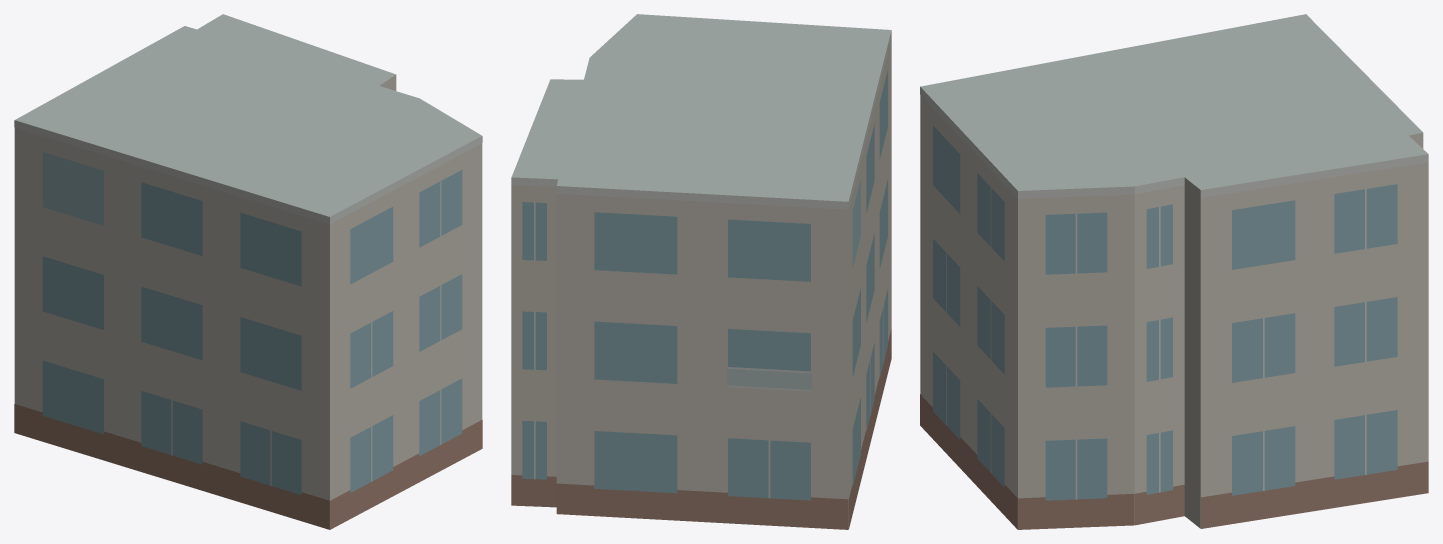
Rendered from survey-upis-32619594.glb.
The picture shows the model from 3 angles, left to right: view 1: azimuth 30°, elevation 25°; view 2: azimuth 150°, elevation 25°; view 3: azimuth 270°, elevation 25°; orthographic projection. The views are drawn at different scales.
Parts seen in each view (by area): view 1: survey-upis-32619594.tmp; view 2: survey-upis-32619594.tmp; view 3: survey-upis-32619594.tmp.
Part boxes in pixels (x1,y1,x2,y2): survey-upis-32619594.tmp: (14,14,482,529); survey-upis-32619594.tmp: (511,14,891,529); survey-upis-32619594.tmp: (920,14,1428,529).
Size of the model in its own units: 11.66 by 10.4 by 14.15.
